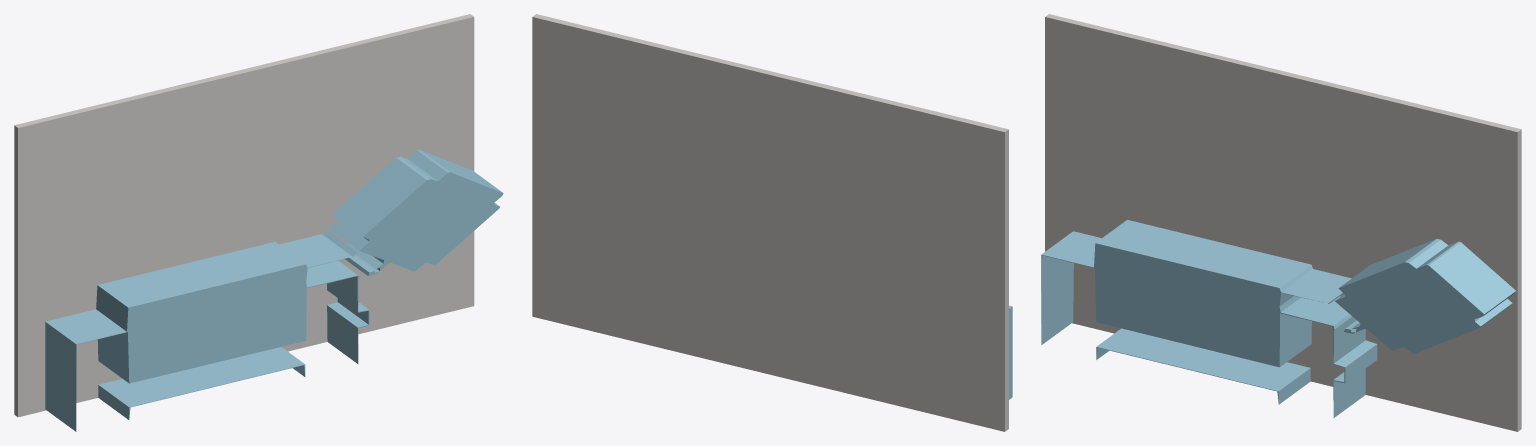
3 views of the same model, side by side, from view 1: azimuth 30°, elevation 25°; view 2: azimuth 150°, elevation 25°; view 3: azimuth 330°, elevation 25° (orthographic). The views are drawn at different scales.
Visible parts, largest first — view 1: world; view 2: world; view 3: world.
Part boxes in pixels (x1=…): world: x1=14, y1=14, x2=503, y2=431; world: x1=532, y1=14, x2=1012, y2=431; world: x1=1041, y1=14, x2=1521, y2=431.
Bounding box in the file's own units: 10.23 × 6.2 × 1.35.
